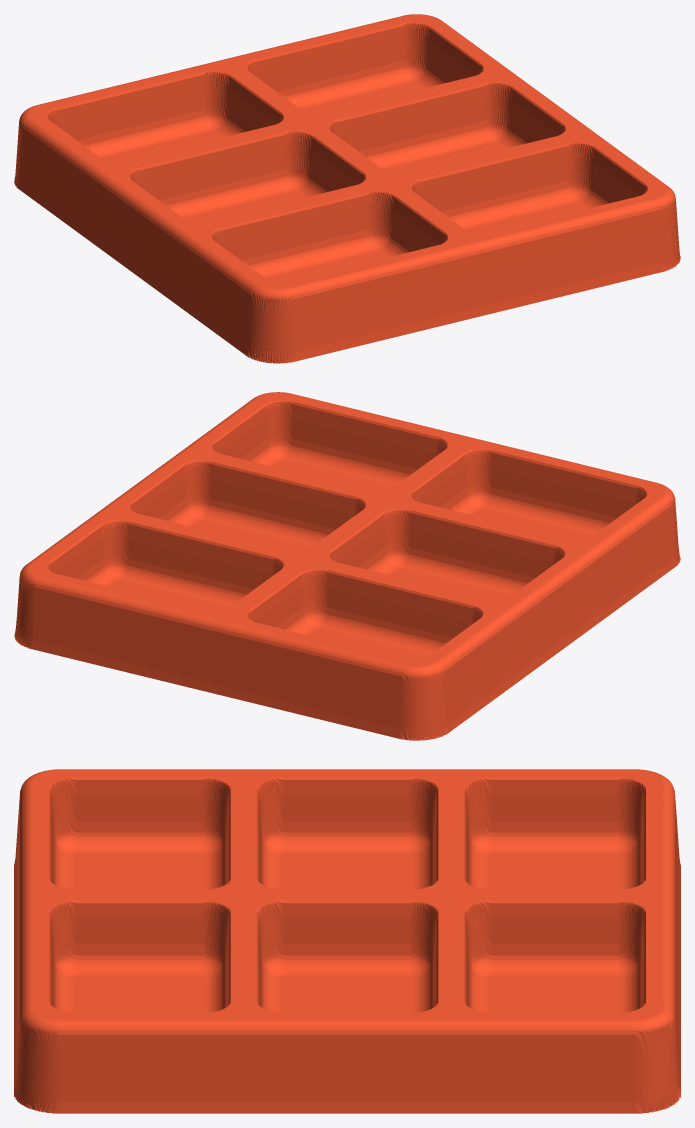
File: mold.glb
The picture shows the model from 3 angles, top to bottom: view 1: azimuth 30°, elevation 25°; view 2: azimuth 150°, elevation 25°; view 3: azimuth 270°, elevation 25°; orthographic projection. The views are drawn at different scales.
Parts seen in each view (by area): view 1: geometry_0; view 2: geometry_0; view 3: geometry_0.
Boxes of the visible parts, box(x1,y1,x2,y2) form: geometry_0: box(14, 14, 680, 363); geometry_0: box(14, 392, 680, 740); geometry_0: box(14, 769, 680, 1113).
Size of the model in its own units: 0.1222 by 0.0185 by 0.13.
